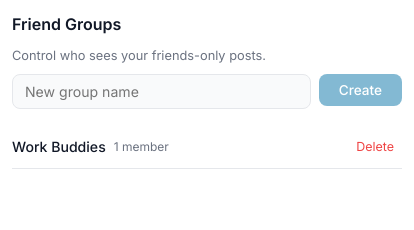
Test: FriendGroupSettings › expands group to show members on click
The width and height of the screenshot is (414, 230).
# Click group name to expand
What coordinates should you click on to do the following:
click the button "Work Buddies 1 member"
I would click on:
 (90, 147)
Its box is [12,138,169,155].
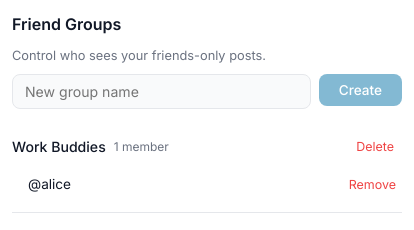
Expected: the text "@alice" is shown, [28,174,71,196]
Expected: the button "Remove" is shown, [343,175,402,194]
